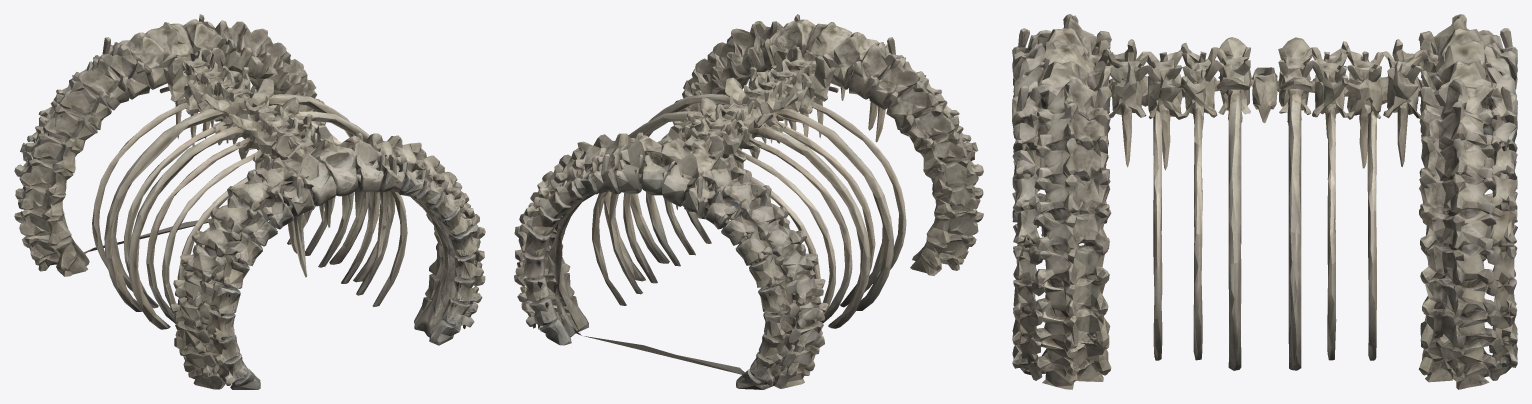
The model's file is sv_bonearch.glb.
3 renders of one model, left to right at view 1: azimuth 30°, elevation 25°; view 2: azimuth 150°, elevation 25°; view 3: azimuth 270°, elevation 25°, orthographic. The views are drawn at different scales.
Bounding box in the file's own units: 1.67 × 1.11 × 1.9.
Materials: 1 (1 with a texture image).
